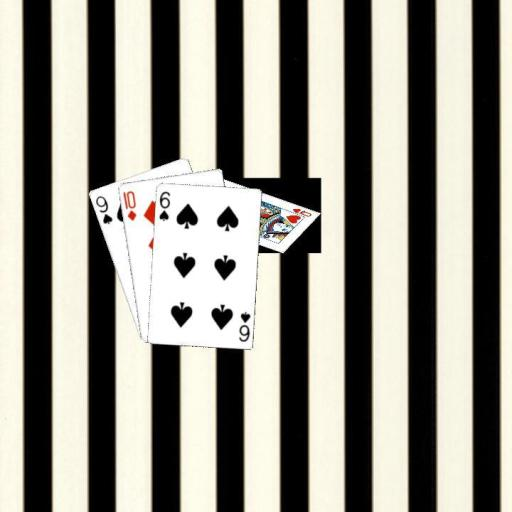10D: (120, 187, 138, 222)
6S: (235, 309, 252, 343), (156, 188, 171, 223)
9S: (92, 193, 114, 225)
